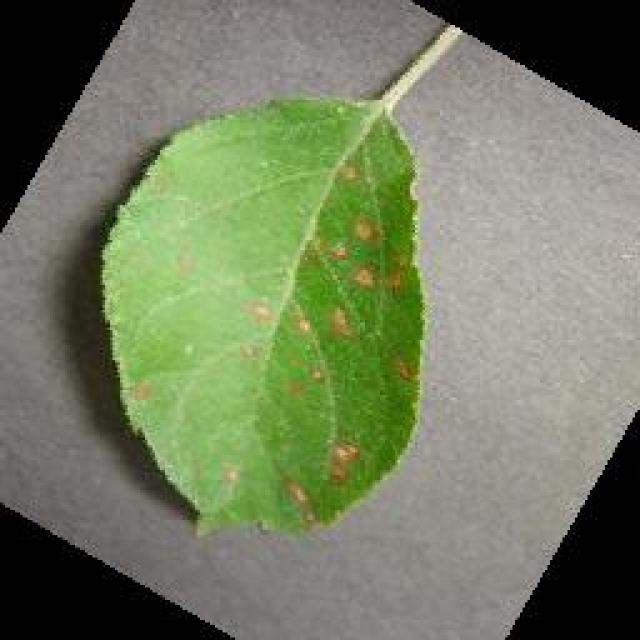apple cedar apple rust: (98, 92, 428, 540)
